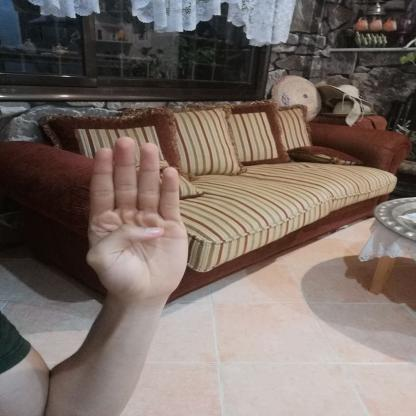KAAF: (66, 128, 204, 316)
